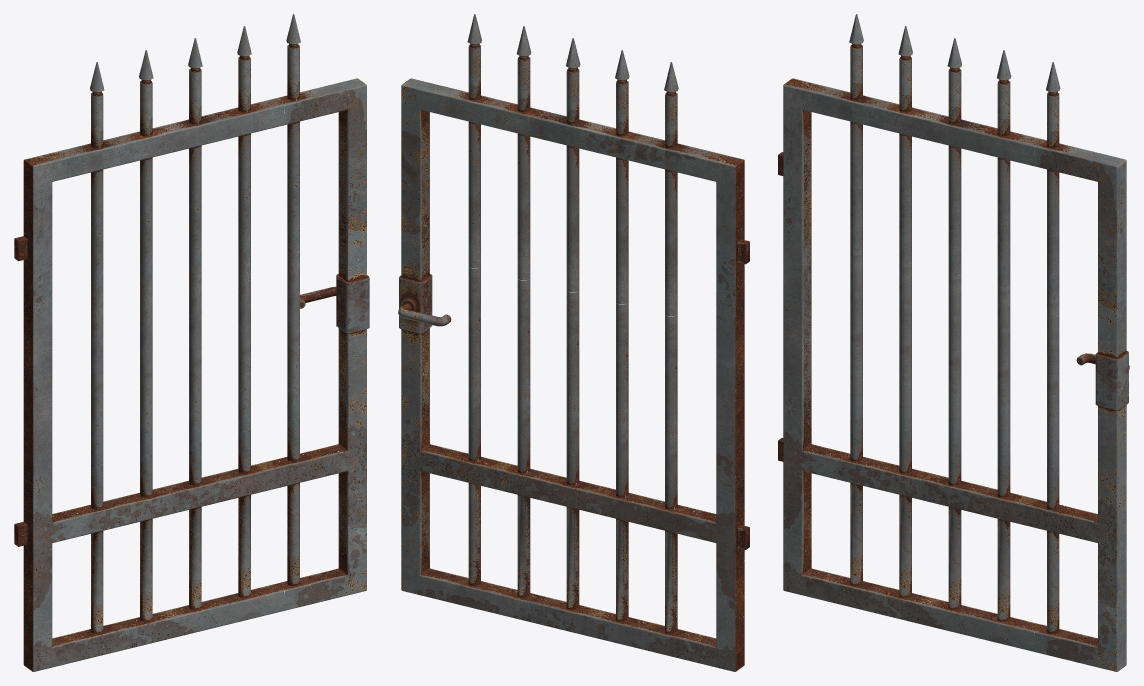
The model's file is fence_SM_Fence.fbx.
The picture shows the model from 3 angles, left to right: view 1: azimuth 30°, elevation 25°; view 2: azimuth 150°, elevation 25°; view 3: azimuth 330°, elevation 25°; orthographic projection.
Parts seen in each view (by area): view 1: fence_SM_Fence; view 2: fence_SM_Fence; view 3: fence_SM_Fence.
Boxes of the visible parts, bbox=[...] form: fence_SM_Fence: bbox=[14, 14, 369, 671]; fence_SM_Fence: bbox=[398, 14, 749, 671]; fence_SM_Fence: bbox=[778, 14, 1129, 671].
Size of the model in its own units: 143 by 16.84 by 233.
1 material, 1 textured.
